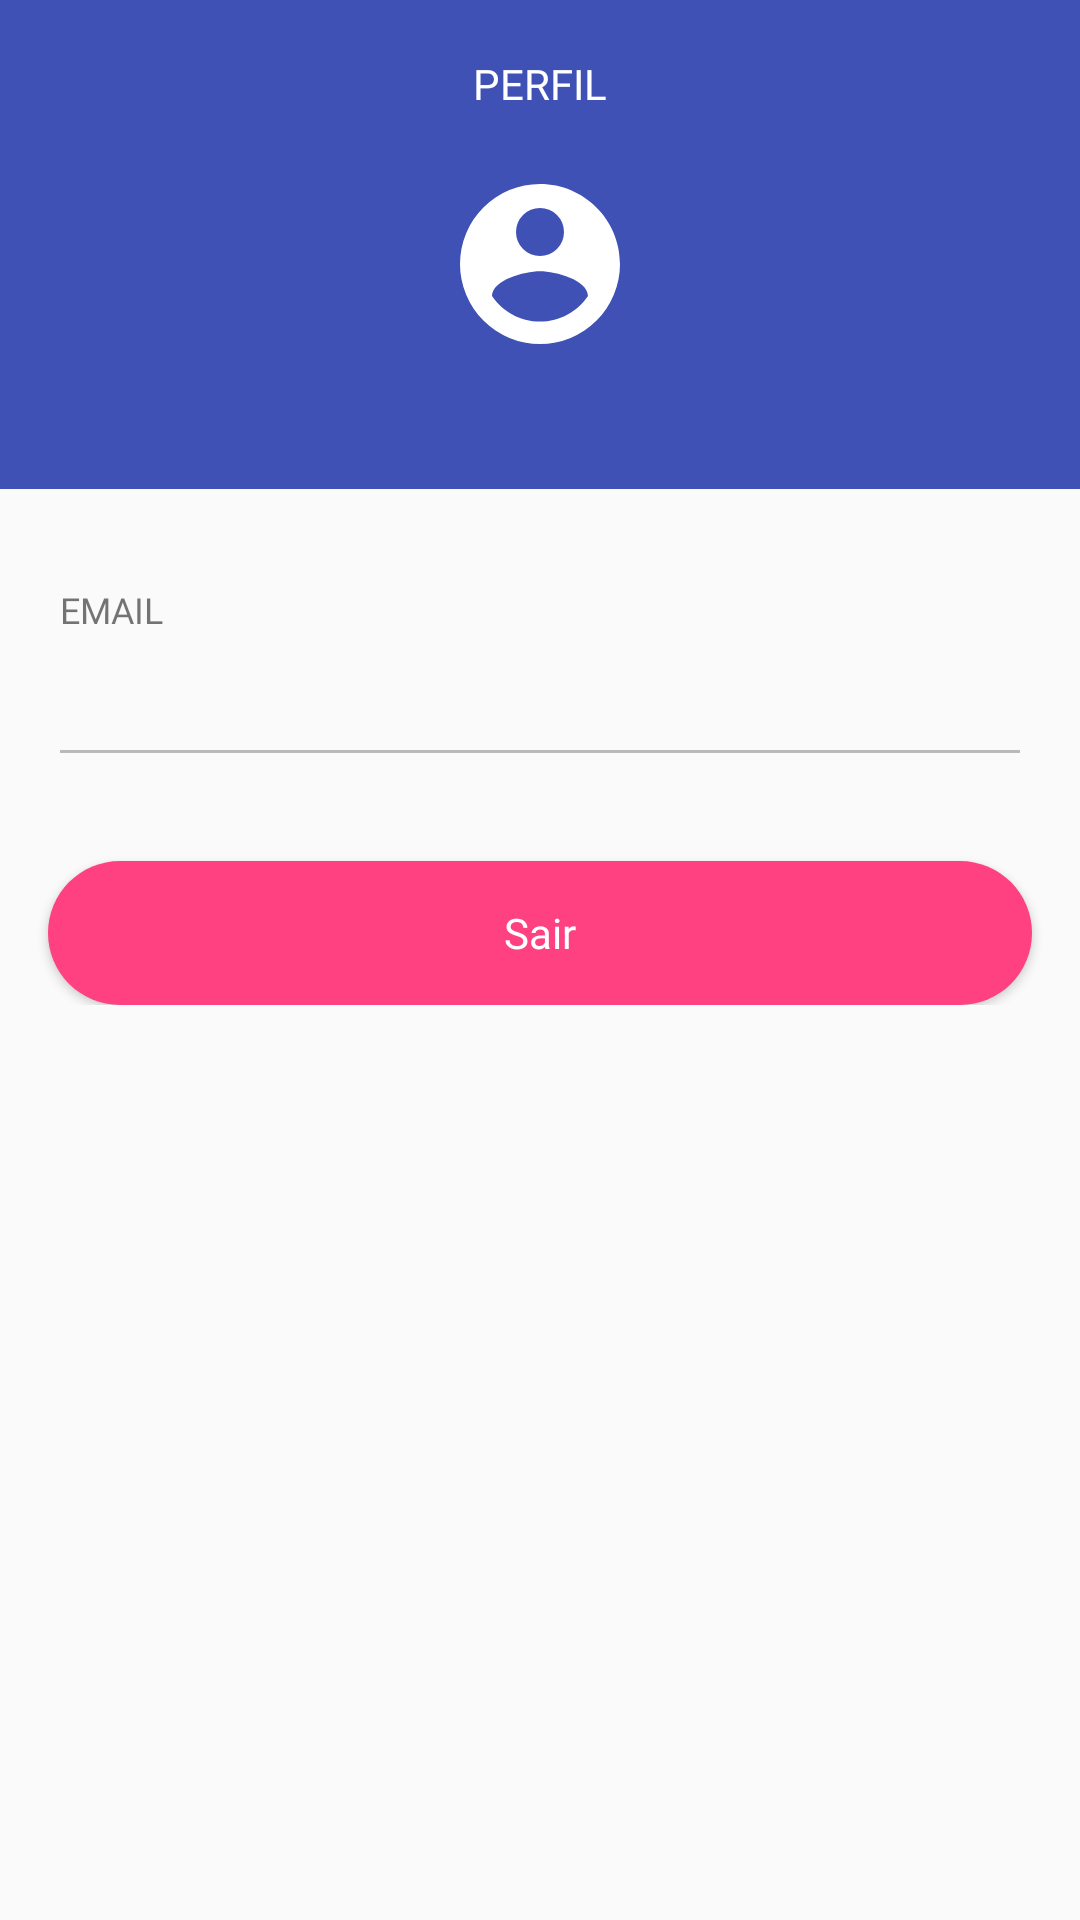

Icons on this 1080x1920 Android screen, each with the point to tap as (x=x, y=y):
account circle: (x=540, y=264)
